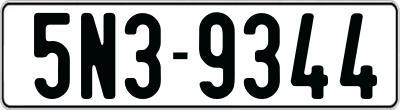3: (241, 13, 283, 103), (122, 12, 163, 98)
4: (288, 12, 330, 102), (337, 11, 377, 99)
5: (31, 11, 67, 98)
9: (198, 10, 238, 103)
N: (79, 12, 115, 103)
